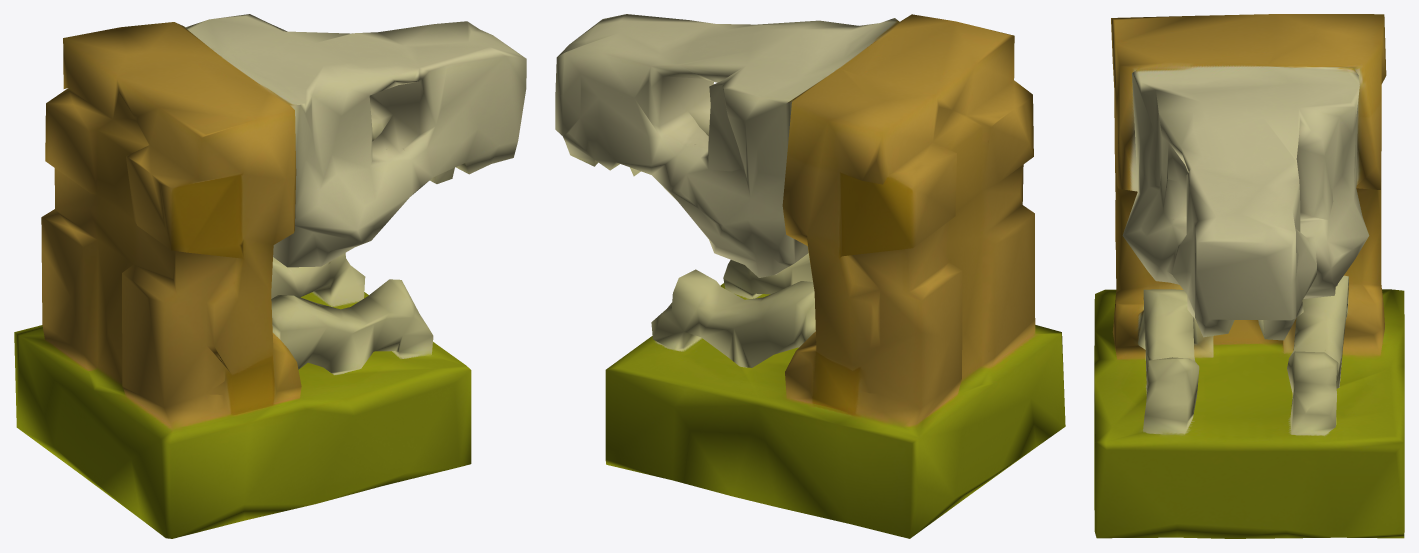
3 renders of one model, left to right at view 1: azimuth 30°, elevation 25°; view 2: azimuth 150°, elevation 25°; view 3: azimuth 270°, elevation 25°, orthographic.
Parts seen in each view (by area): view 1: tripo_node_52cc37df-9b76-4579-9082-a3347edc96e8; view 2: tripo_node_52cc37df-9b76-4579-9082-a3347edc96e8; view 3: tripo_node_52cc37df-9b76-4579-9082-a3347edc96e8.
Boxes of the visible parts, bbox=[...] form: tripo_node_52cc37df-9b76-4579-9082-a3347edc96e8: bbox=[14, 14, 526, 538]; tripo_node_52cc37df-9b76-4579-9082-a3347edc96e8: bbox=[555, 14, 1065, 538]; tripo_node_52cc37df-9b76-4579-9082-a3347edc96e8: bbox=[1094, 14, 1404, 538].
Bounding box in the file's own units: 1 × 0.9009 × 0.6433.
1 material, 1 textured.
